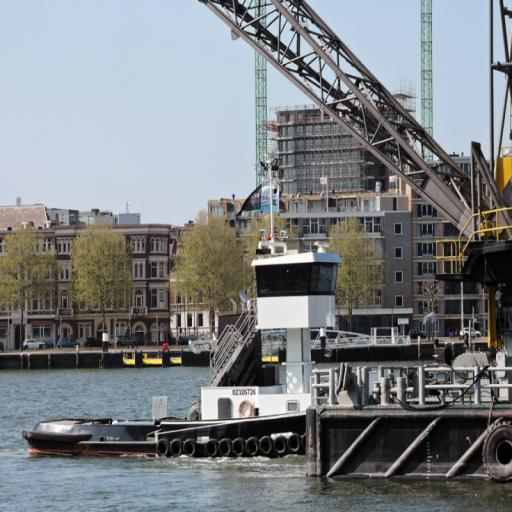tugboat: (20, 240, 507, 469)
